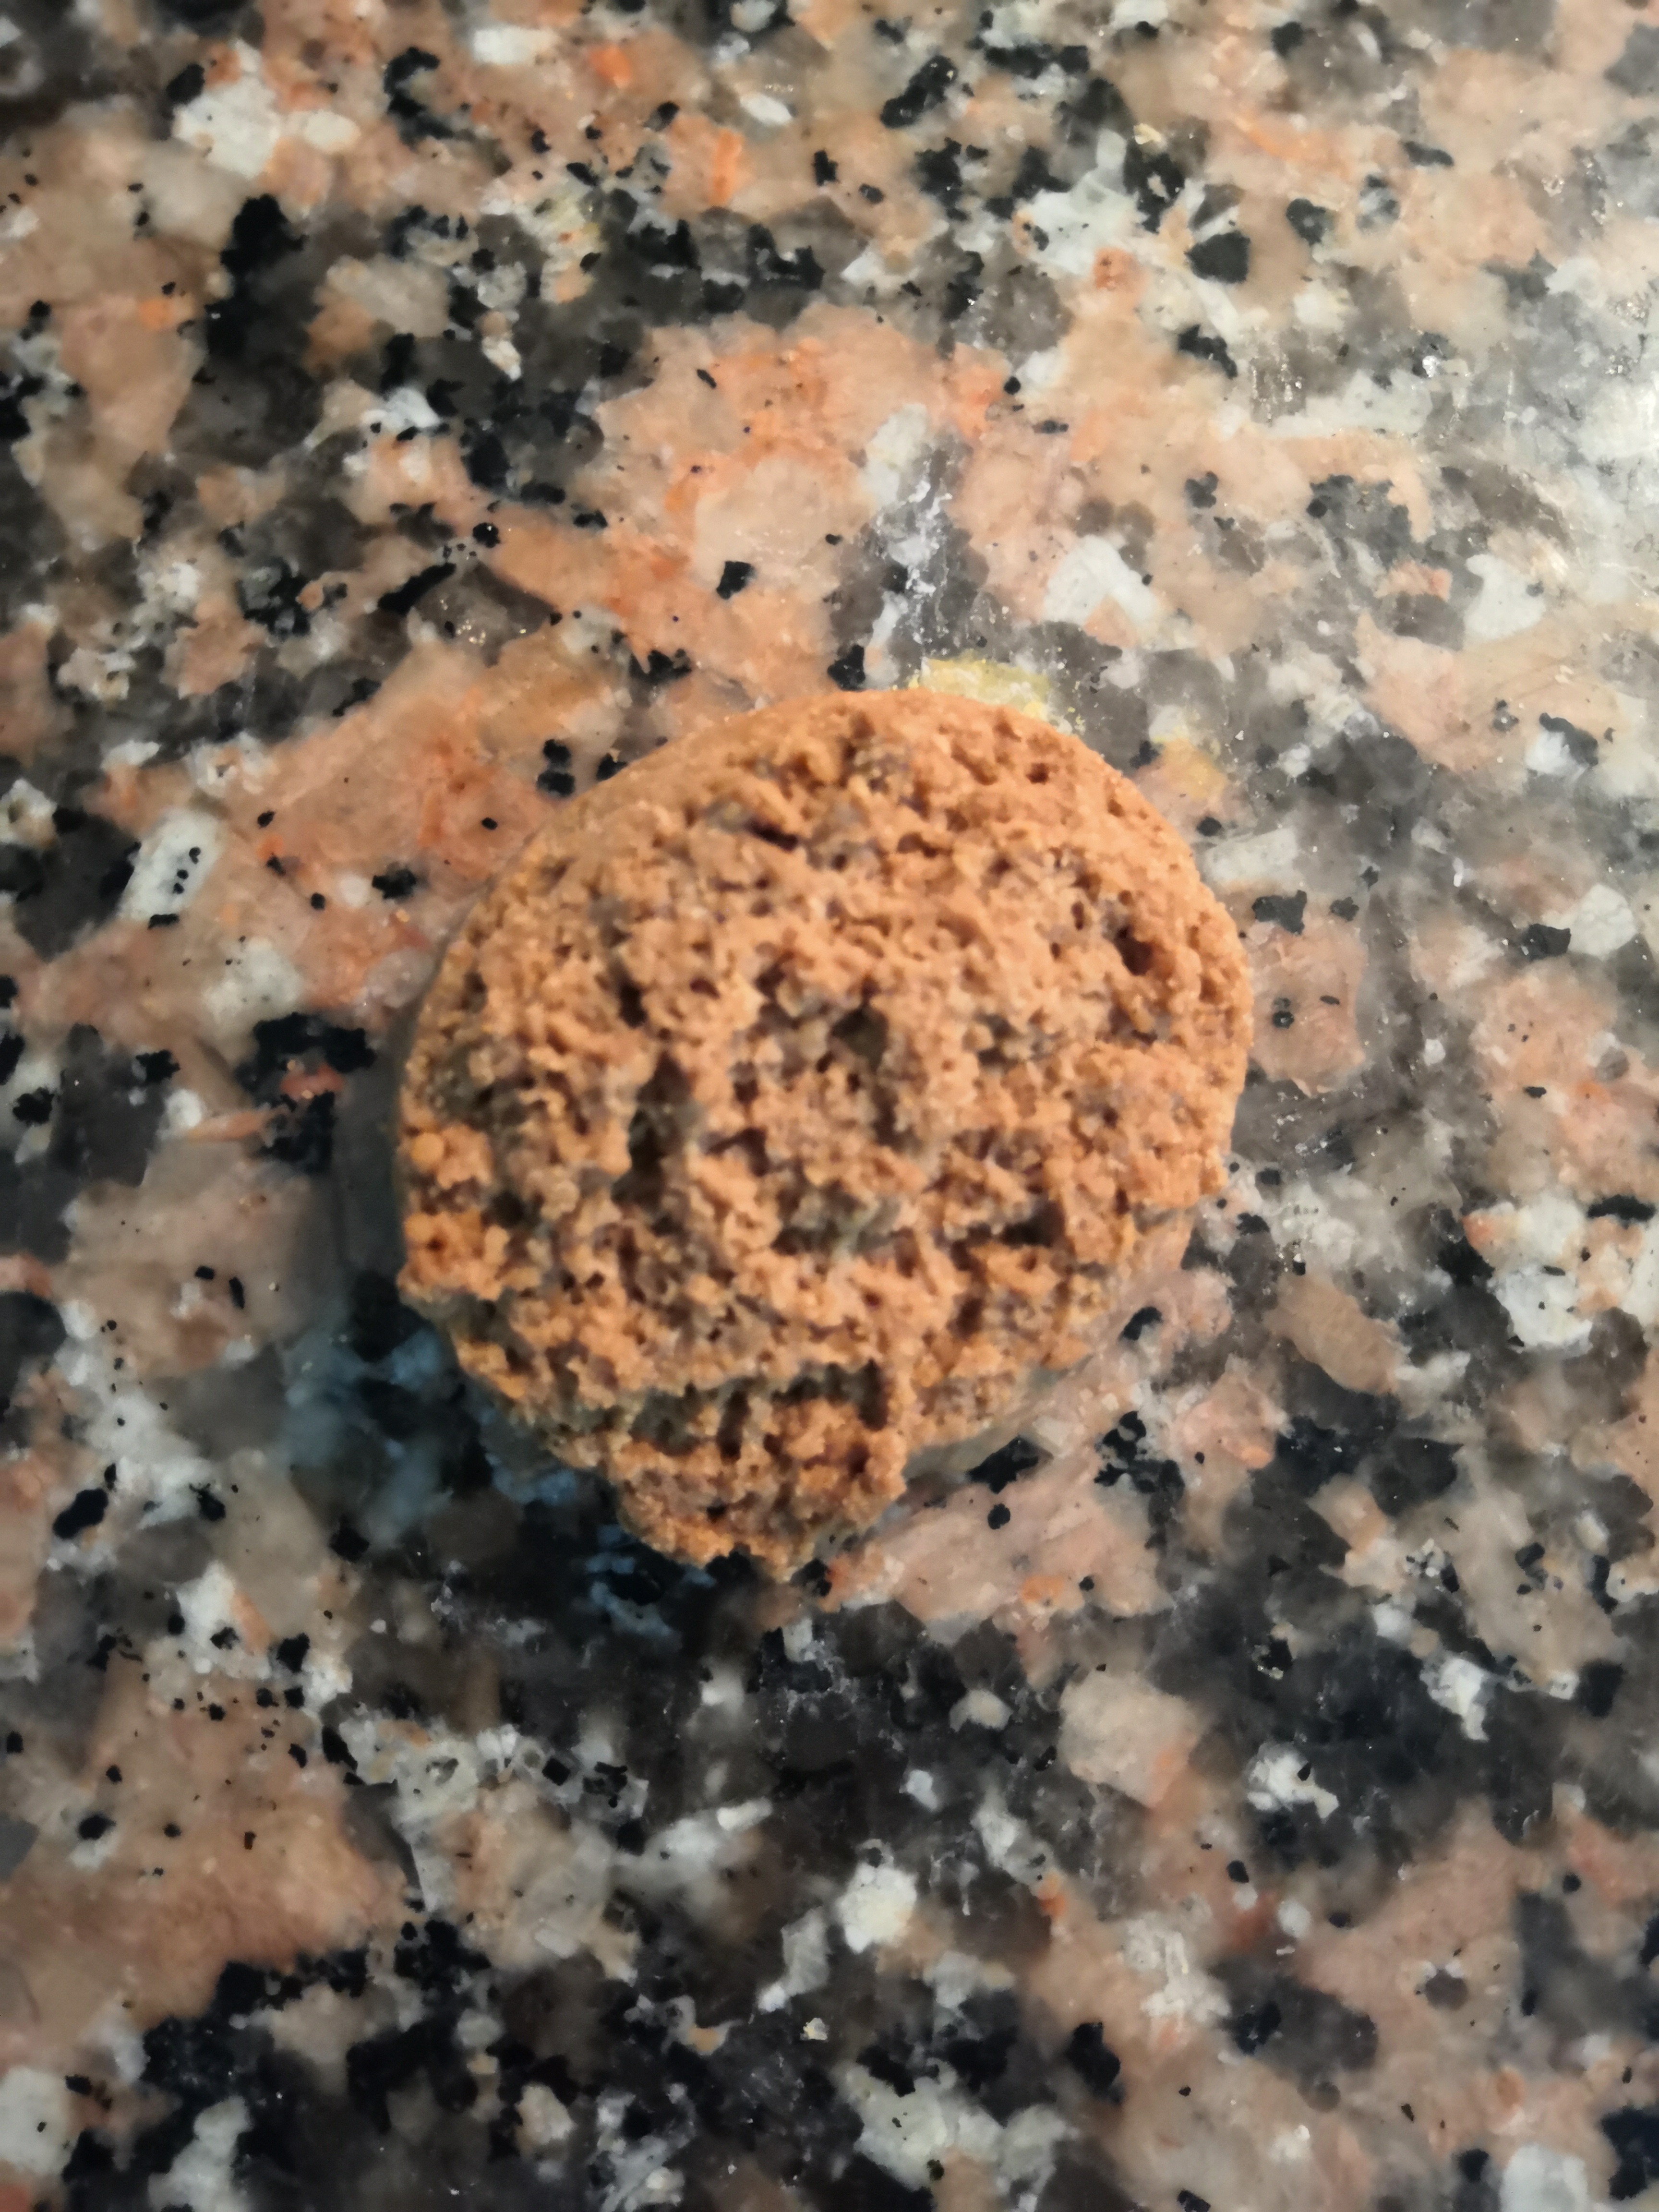Cookie3: (396, 691, 1244, 1550)
